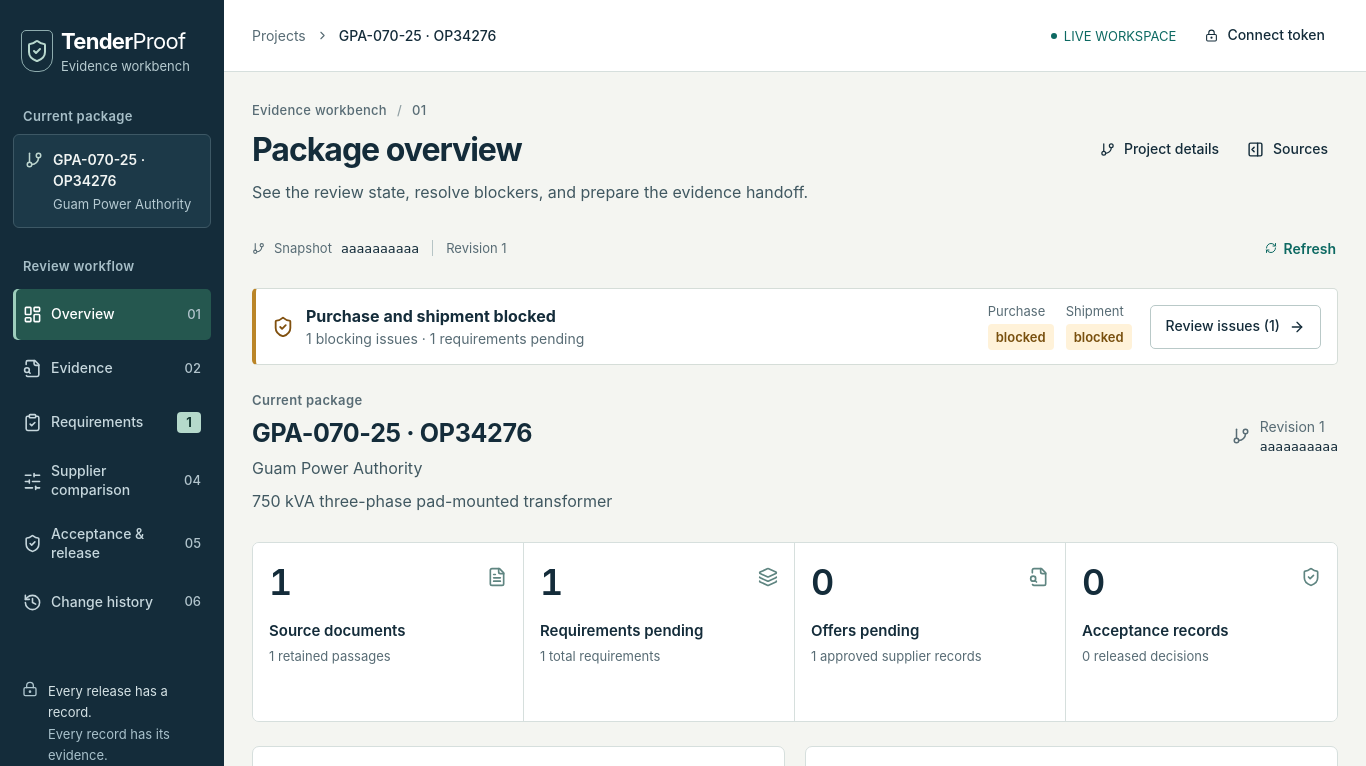
Test: snapshot integrity and unavailable reads › rejects search results from another snapshot
The image size is (1366, 766).
Click the button "Evidence 02": point(112, 369) [13,343,211,394]
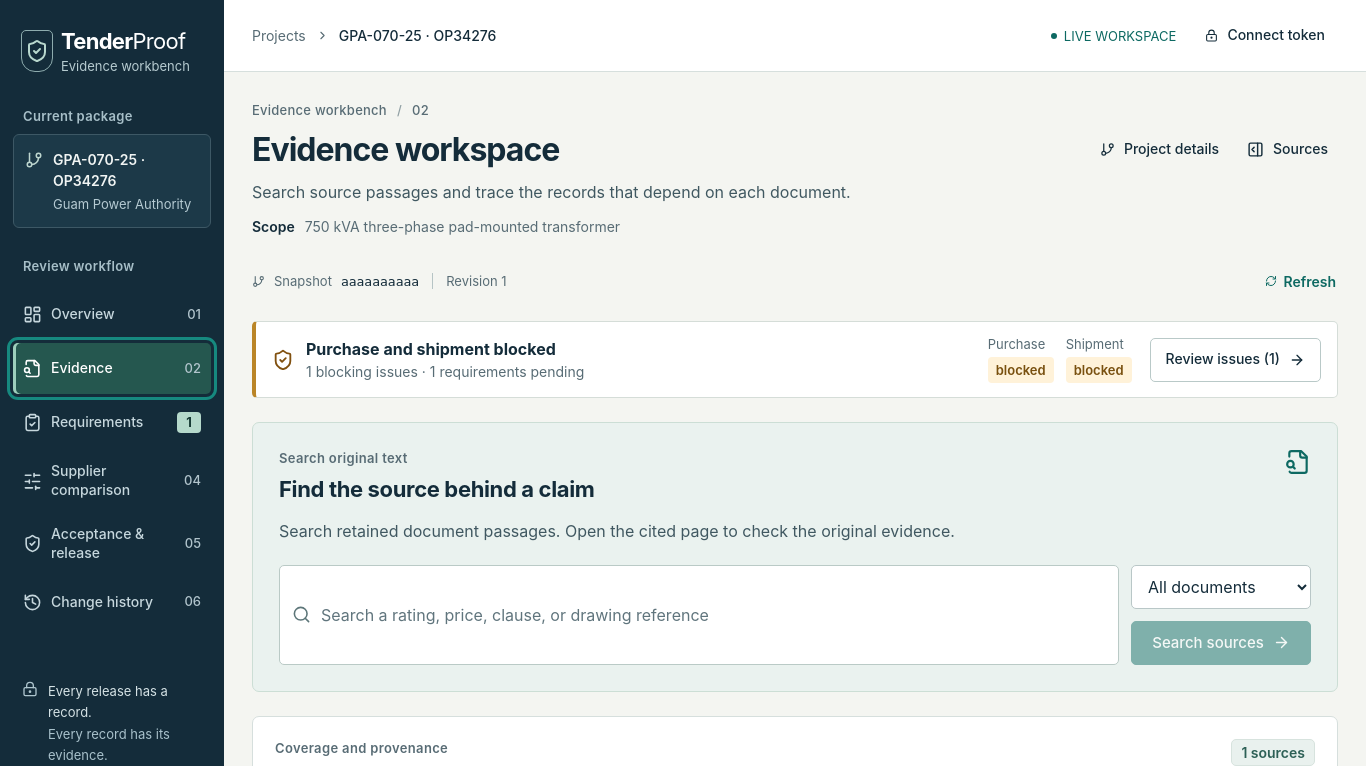
In the field named "Search source text": point(714, 615) [321,593,1106,637], type "750"
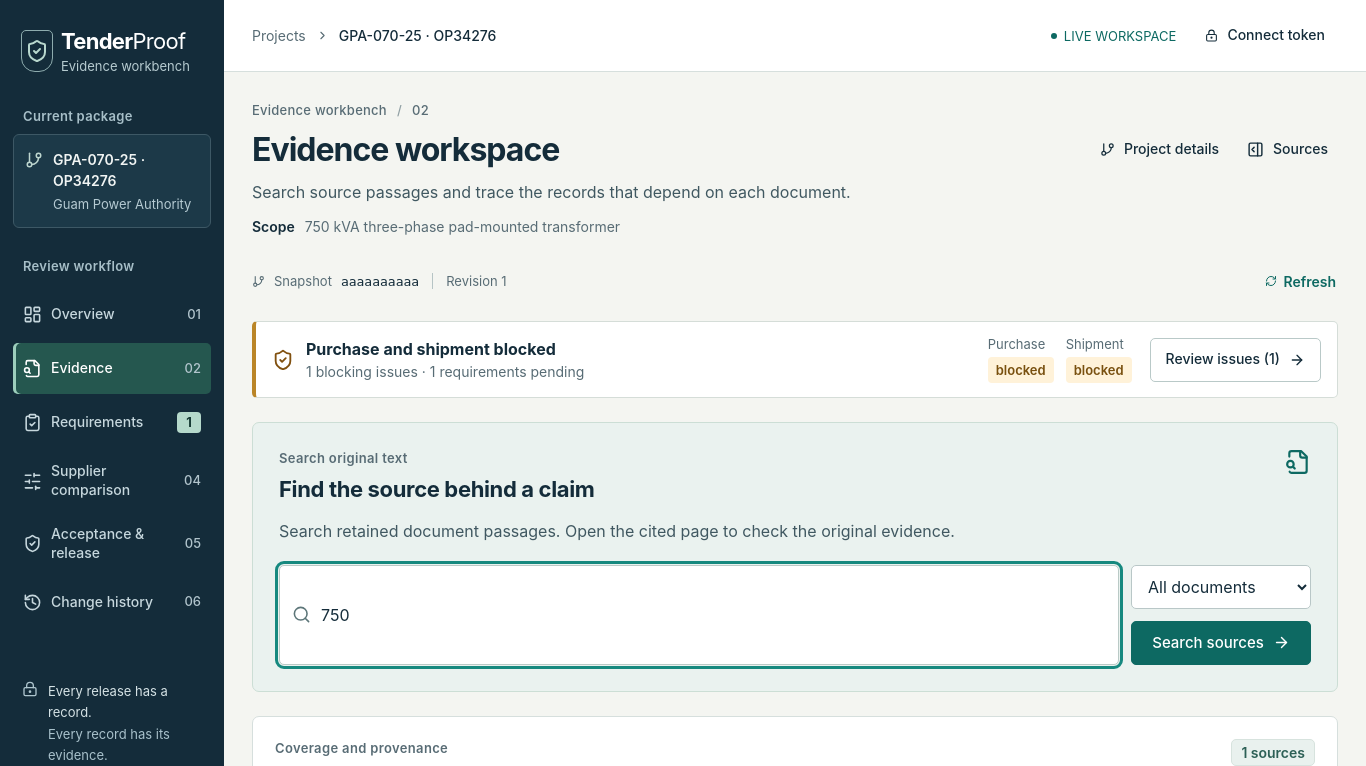
Click the button "Search sources": point(1221, 643) [1131,621,1311,665]
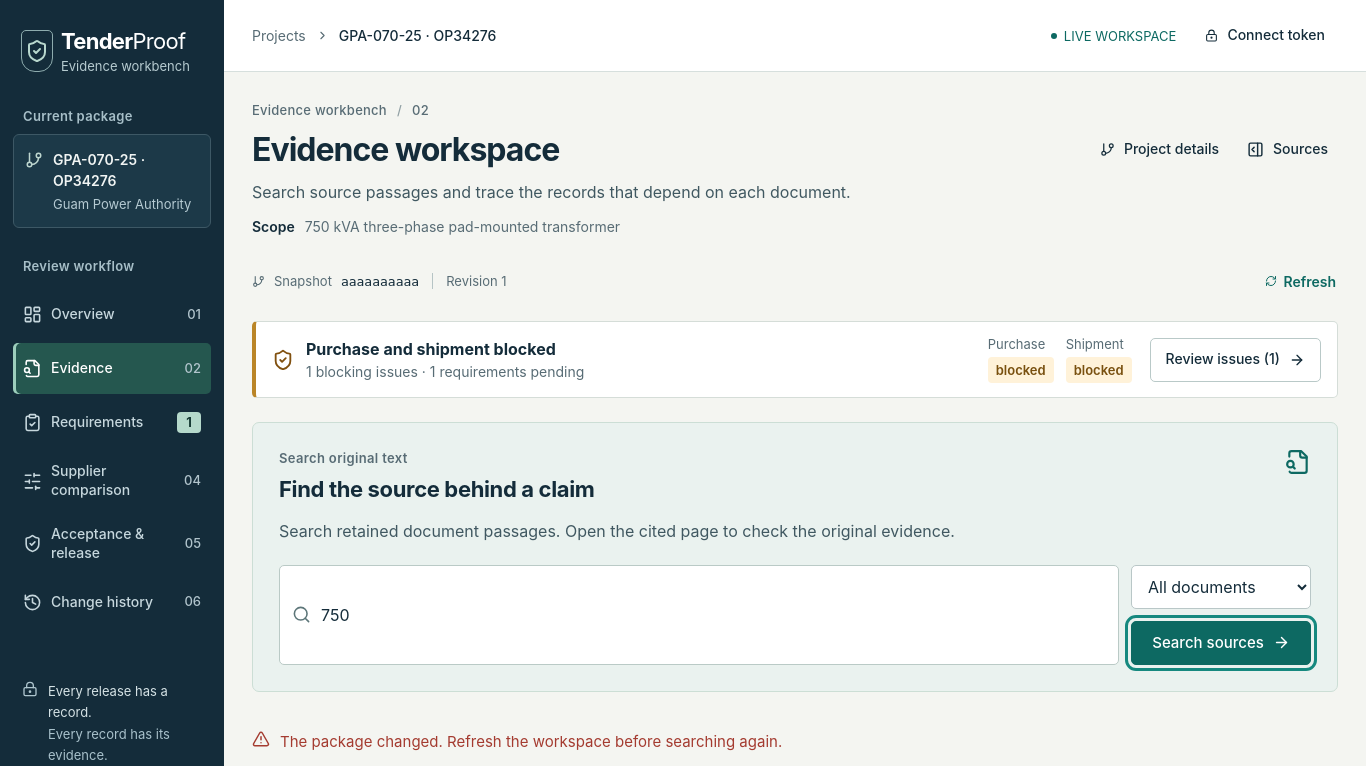
Result: the message shows "The package changed" at [280,732,782,751]
